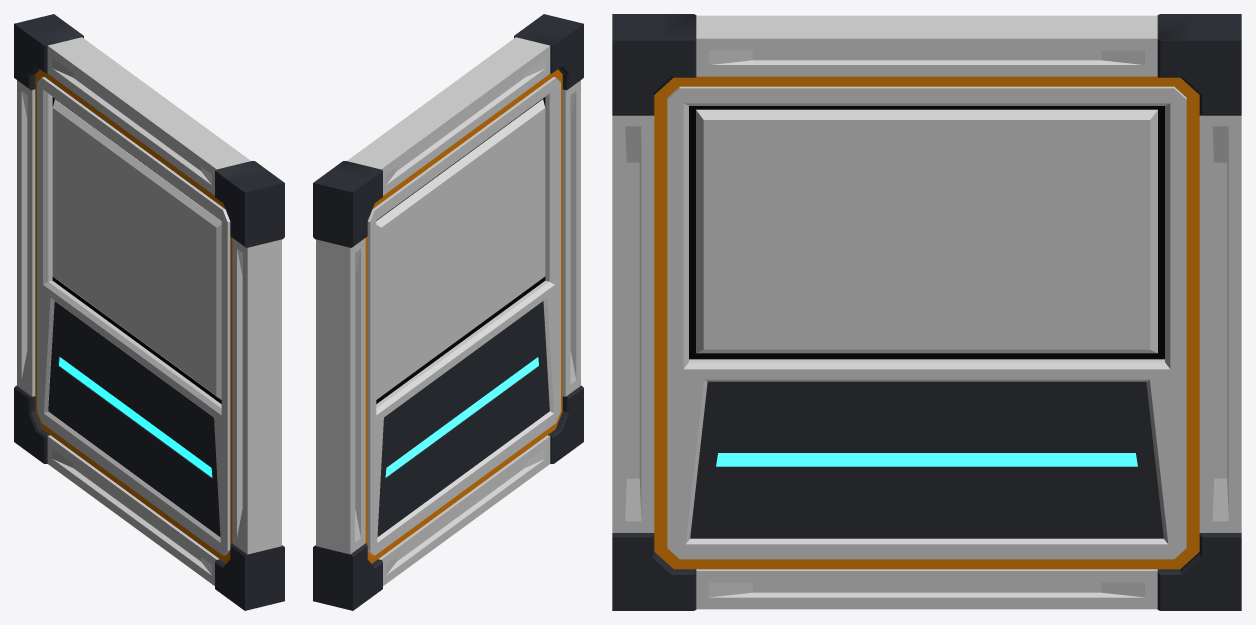
File: SM_Wall_V1.glb
3 renders of one model, left to right at view 1: azimuth 30°, elevation 25°; view 2: azimuth 150°, elevation 25°; view 3: azimuth 270°, elevation 25°, orthographic. The views are drawn at different scales.
Parts seen in each view (by area): view 1: SM_Wall_Cadre.005; view 2: SM_Wall_Cadre.005; view 3: SM_Wall_Cadre.005.
Boxes of the visible parts, x1,y1,x2,y2 form: SM_Wall_Cadre.005: (14,14,284,610); SM_Wall_Cadre.005: (313,14,583,610); SM_Wall_Cadre.005: (612,14,1241,610).
Bounding box in the file's own units: 0.4 × 4 × 4.
